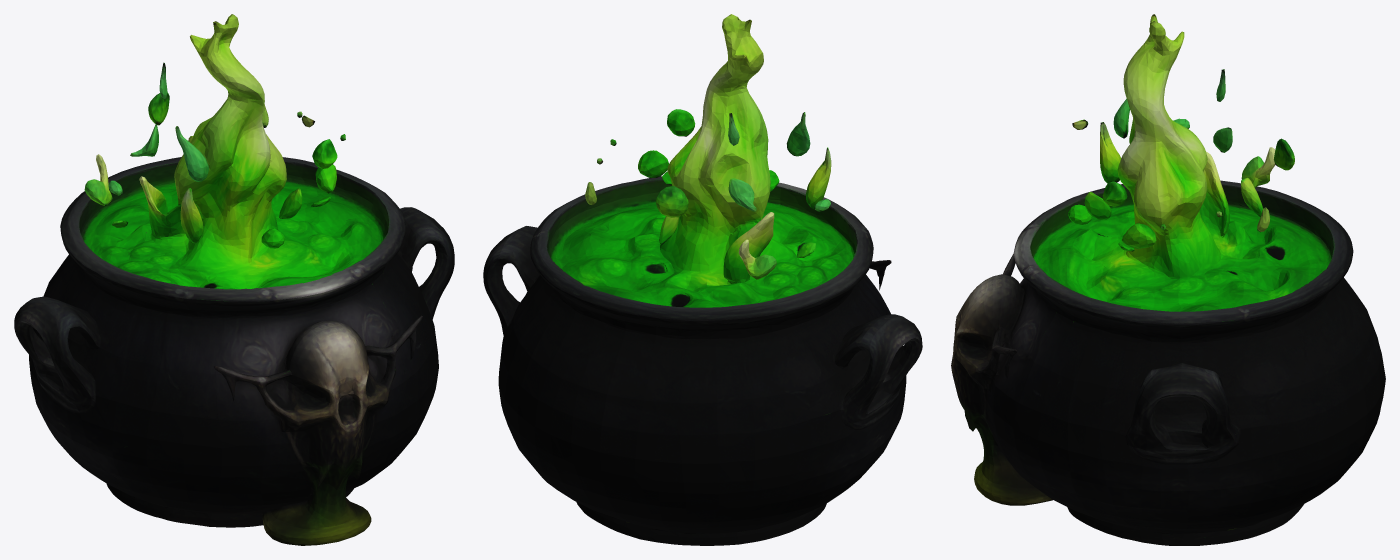
File: green-potion-boiling-2426.glb
The picture shows the model from 3 angles, left to right: view 1: azimuth 30°, elevation 25°; view 2: azimuth 150°, elevation 25°; view 3: azimuth 270°, elevation 25°; orthographic projection. The views are drawn at different scales.
Parts seen in each view (by area): view 1: world; view 2: world; view 3: world.
Boxes of the visible parts, left/top/right/bottom form: world: left=14, top=14, right=454, bottom=545; world: left=483, top=14, right=922, bottom=545; world: left=951, top=14, right=1385, bottom=545.
Size of the model in its own units: 0.9002 by 0.9989 by 0.8475.
Materials: 1 (1 with a texture image).
